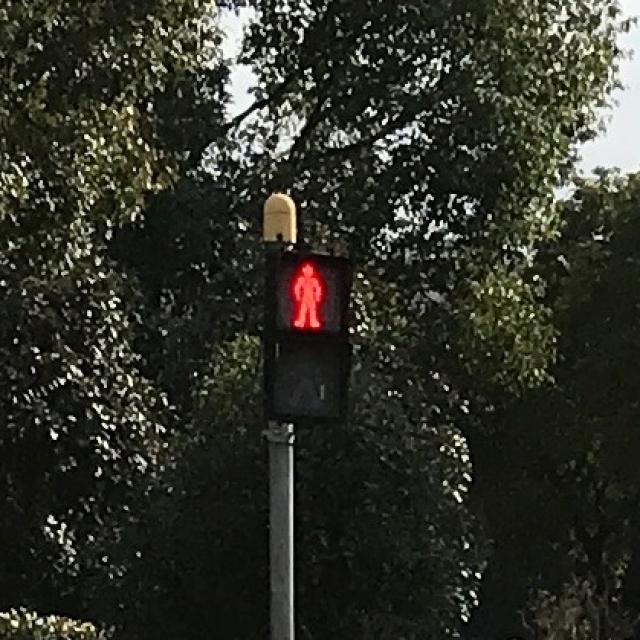red_light: (286, 258, 326, 333)
